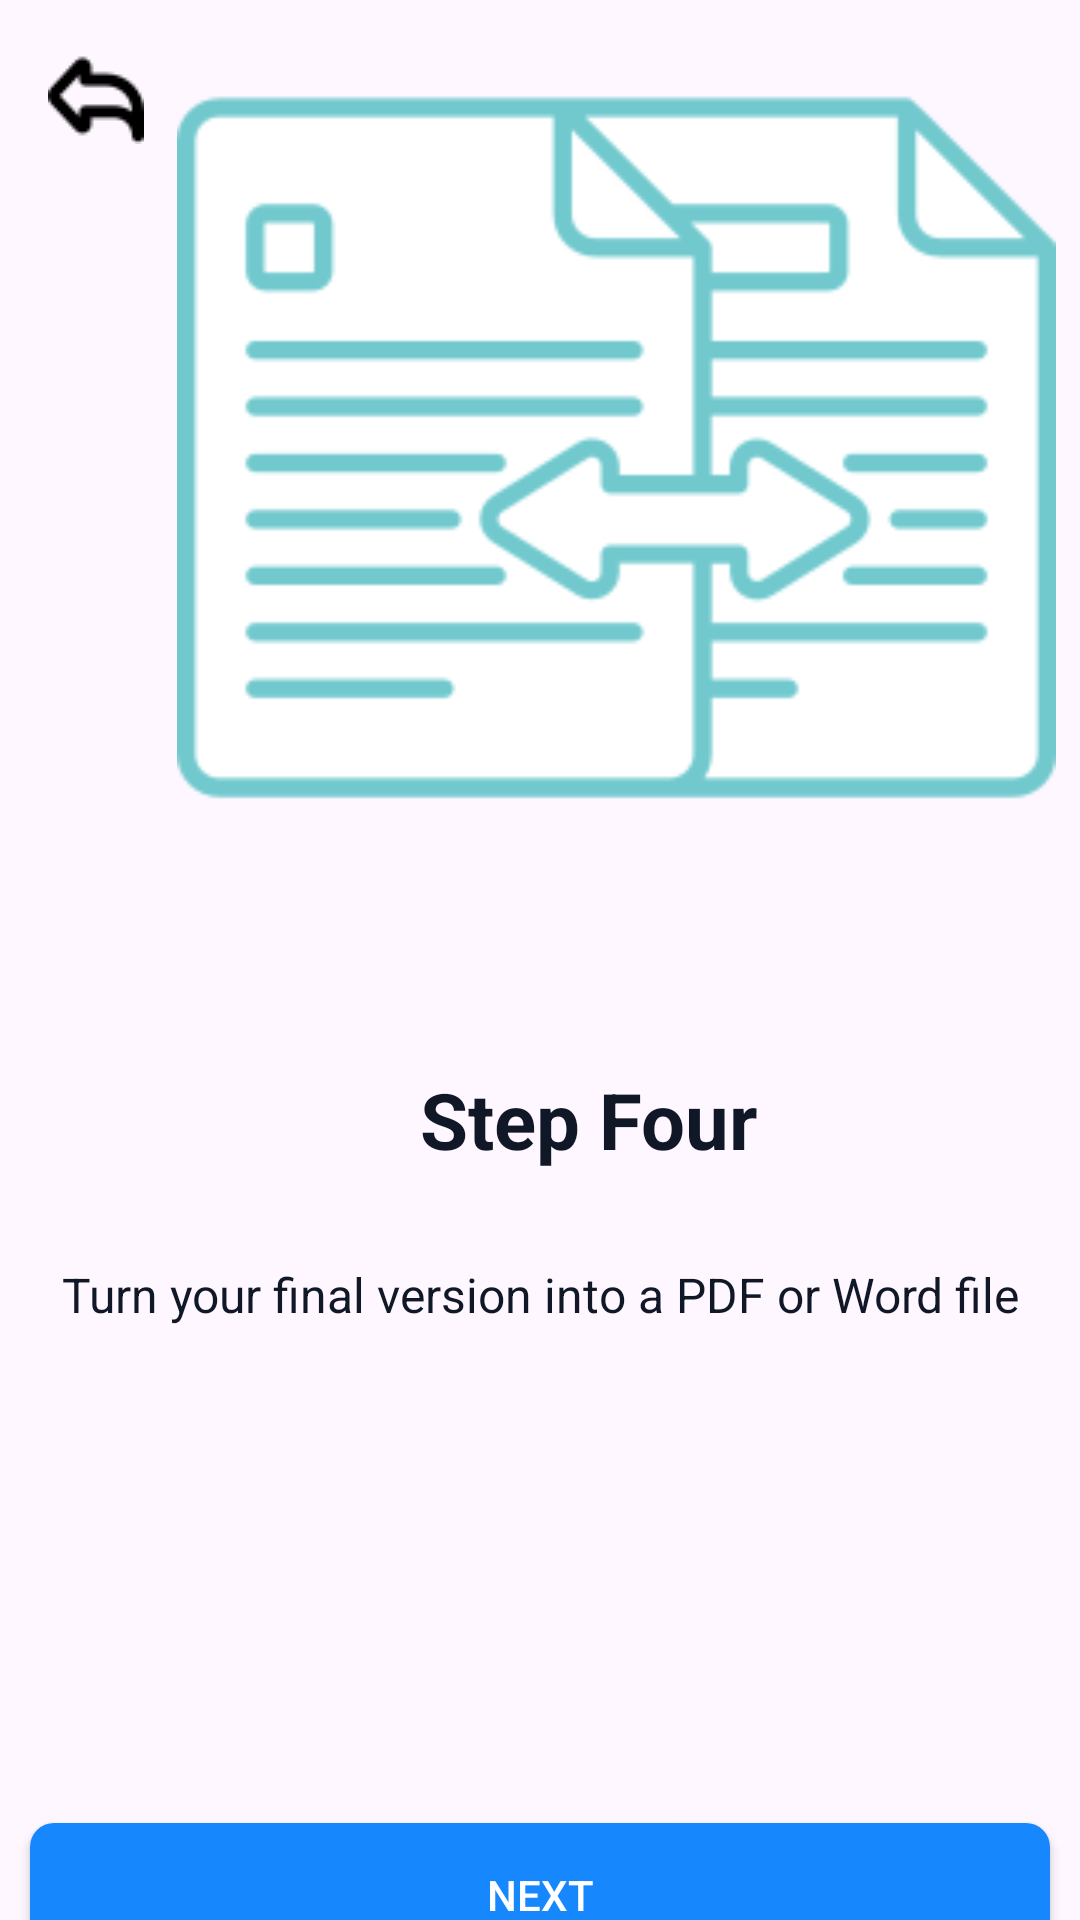

Screen size 1080 × 1920. Icon name, then its center in pixels as [x,y]:
undo: [96,100]
